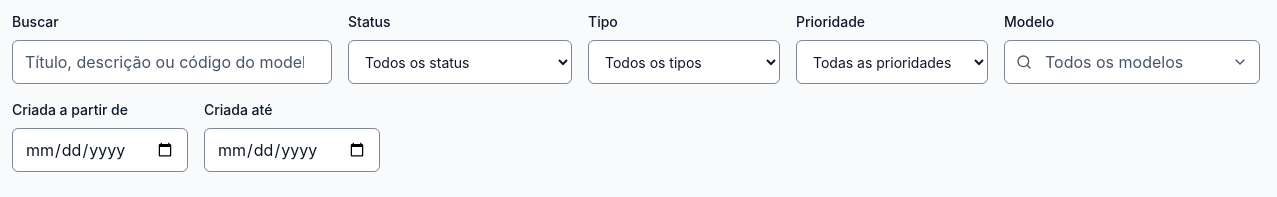
Test: SolicitacaoFilters › deve oferecer no filtro de modelo os modelos devolvidos pela busca quando o campo recebe o foco
Focus the field labelled "Modelo" at coordinates (1132, 62), box x1=1004 y1=40 x2=1260 y2=84
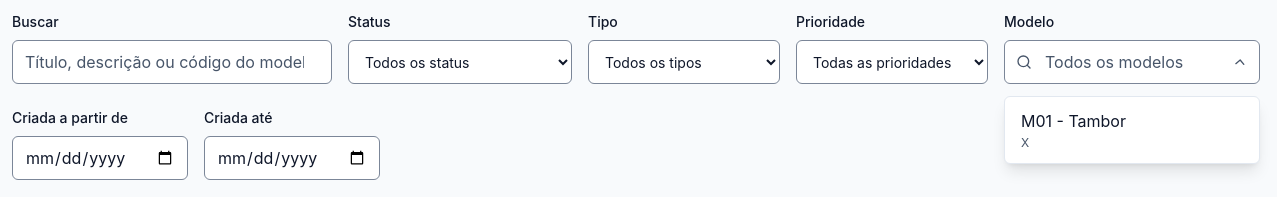
Expected: the button "M01 - Tambor X" is shown, x1=1005 y1=101 x2=1259 y2=159
